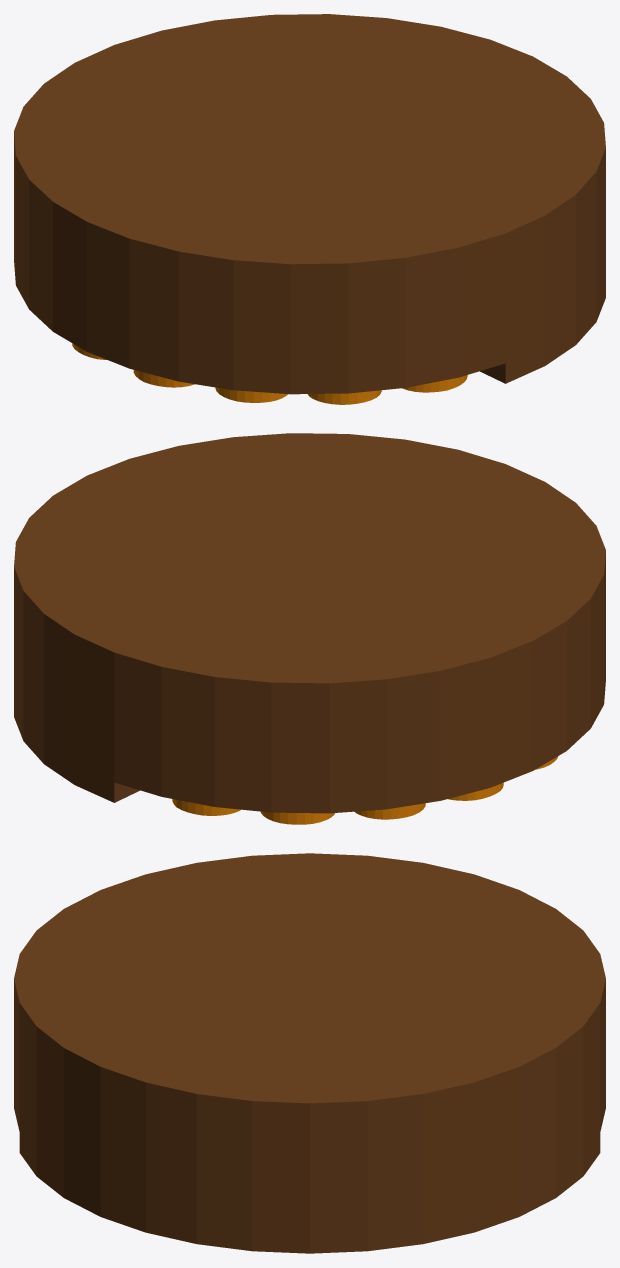
Rendered from escenarioPlaceholder 1.fbx.
The picture shows the model from 3 angles, top to bottom: view 1: azimuth 30°, elevation 25°; view 2: azimuth 150°, elevation 25°; view 3: azimuth 270°, elevation 25°; orthographic projection.
Visible parts, largest first — view 1: PlataformaBase, 2, 3, 1; view 2: PlataformaBase, 8, 7, 9; view 3: PlataformaBase.
Boxes of the visible parts, x1=… form: PlataformaBase: x1=14, y1=14, x2=605, y2=394; 2: x1=307, y1=390, x2=381, y2=404; 3: x1=215, y1=387, x2=287, y2=402; 1: x1=402, y1=375, x2=467, y2=392; PlataformaBase: x1=14, y1=433, x2=605, y2=813; 8: x1=261, y1=811, x2=334, y2=824; 7: x1=354, y1=803, x2=425, y2=819; 9: x1=172, y1=799, x2=240, y2=815; PlataformaBase: x1=14, y1=853, x2=605, y2=1253.
Size of the model in its own units: 1574 by 441 by 1574.
